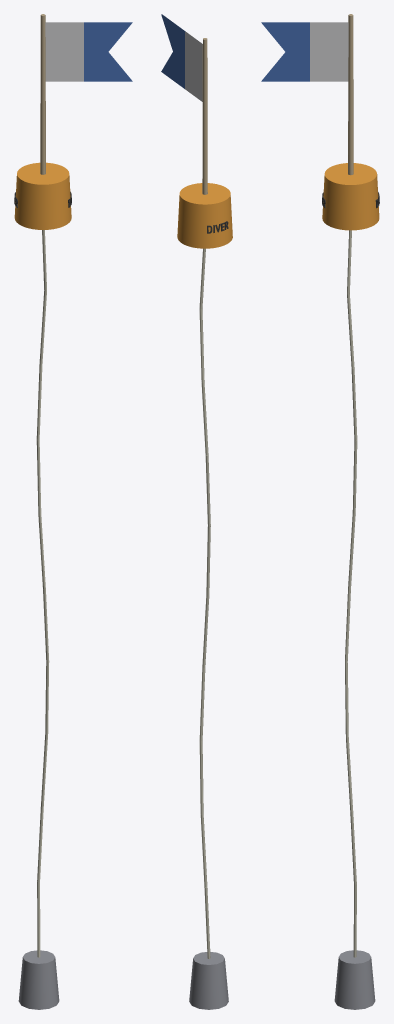
File: dive_marker_a.glb
The picture shows the model from 3 angles, left to right: view 1: azimuth 90°, elevation 25°; view 2: azimuth 210°, elevation 25°; view 3: azimuth 270°, elevation 25°; orthographic projection. The views are drawn at different scales.
Visible parts, largest first — view 1: body; view 2: body; view 3: body.
Part boxes in pixels (left/top/right/bottom): body: left=14, top=14, right=132, bottom=1009; body: left=161, top=14, right=232, bottom=1009; body: left=261, top=14, right=379, bottom=1009.
Size of the model in its own units: 0.14 by 2.67 by 0.291.
